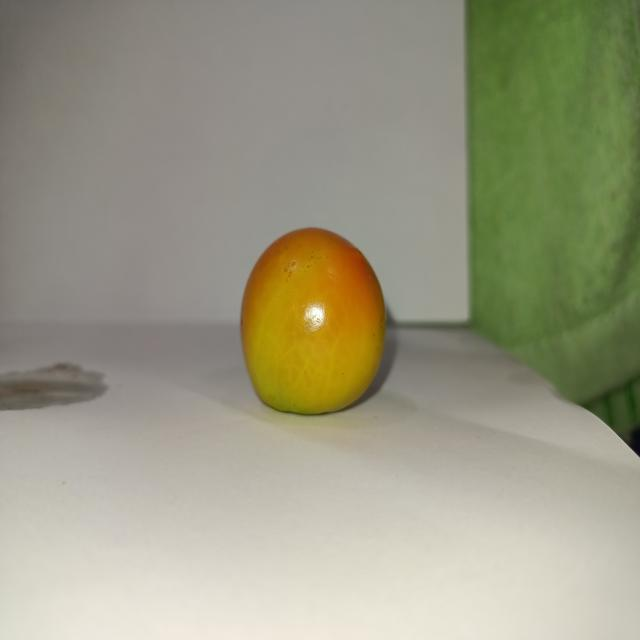Red: (238, 225, 387, 415)
